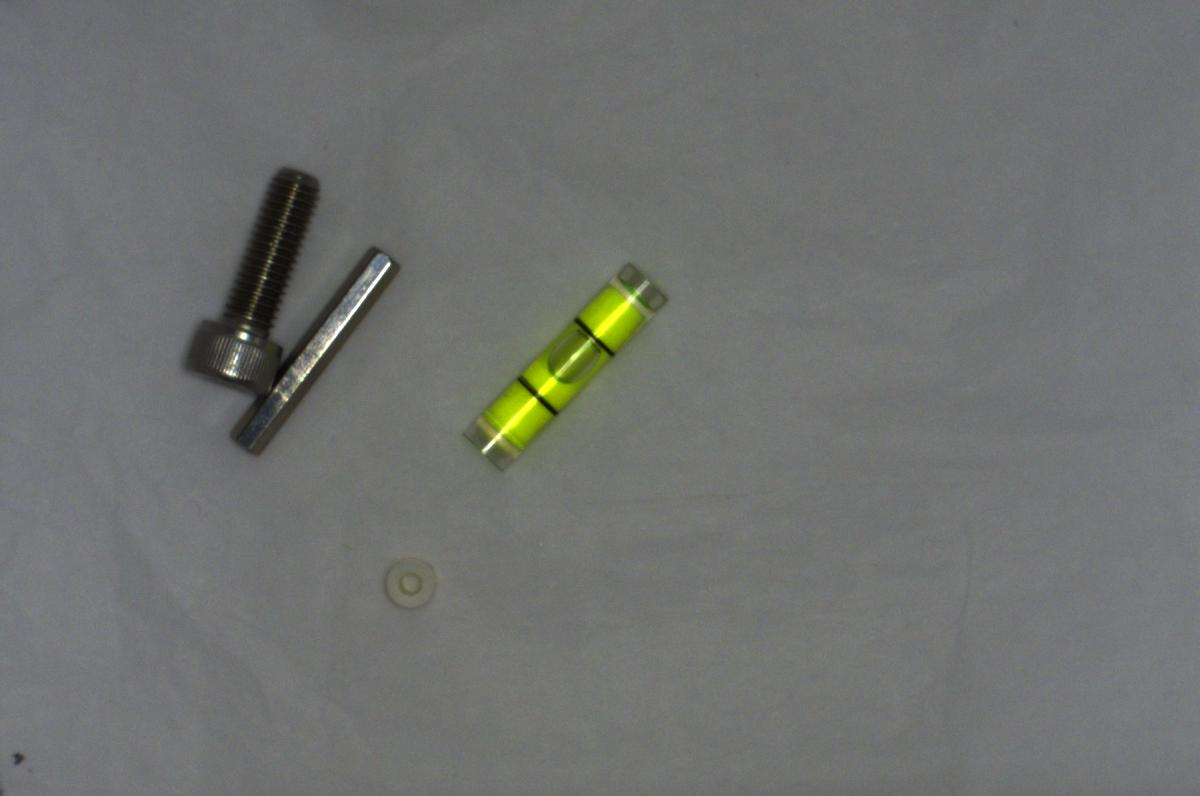Double hexagonal column: (227, 241, 404, 454)
Hexagon screw: (181, 161, 321, 390)
Horizontal bubble: (459, 255, 671, 474)
Plastic cushion pillar: (375, 554, 455, 618)
